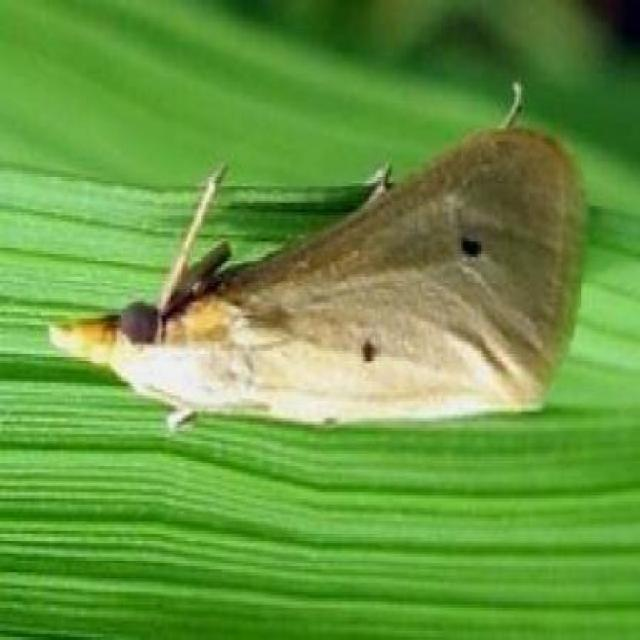stem-borer: (44, 78, 591, 439)
